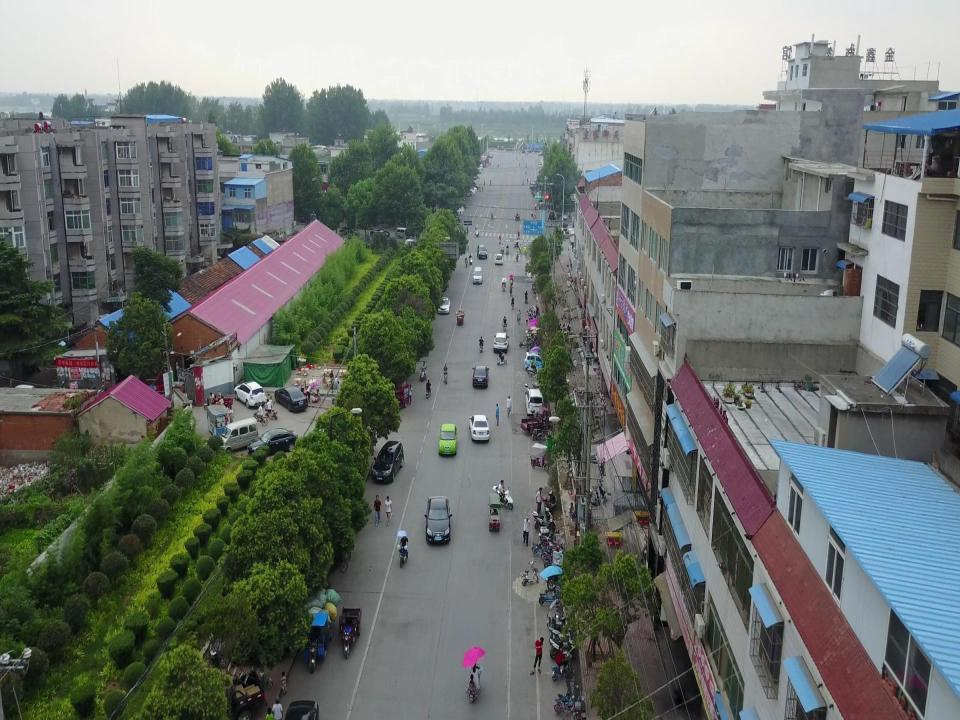car: (248, 427, 298, 458), (371, 441, 403, 484), (426, 493, 450, 545), (234, 380, 266, 410), (274, 387, 308, 413), (469, 414, 490, 442), (439, 422, 457, 454), (524, 388, 544, 415), (472, 364, 491, 389), (524, 353, 544, 371), (493, 333, 509, 352), (339, 226, 359, 237), (370, 228, 390, 239), (438, 296, 450, 314), (529, 369, 543, 382), (472, 266, 482, 284), (476, 245, 488, 260), (495, 253, 503, 265)
truck: (209, 671, 265, 720)
van: (220, 416, 258, 450), (395, 227, 413, 239)
